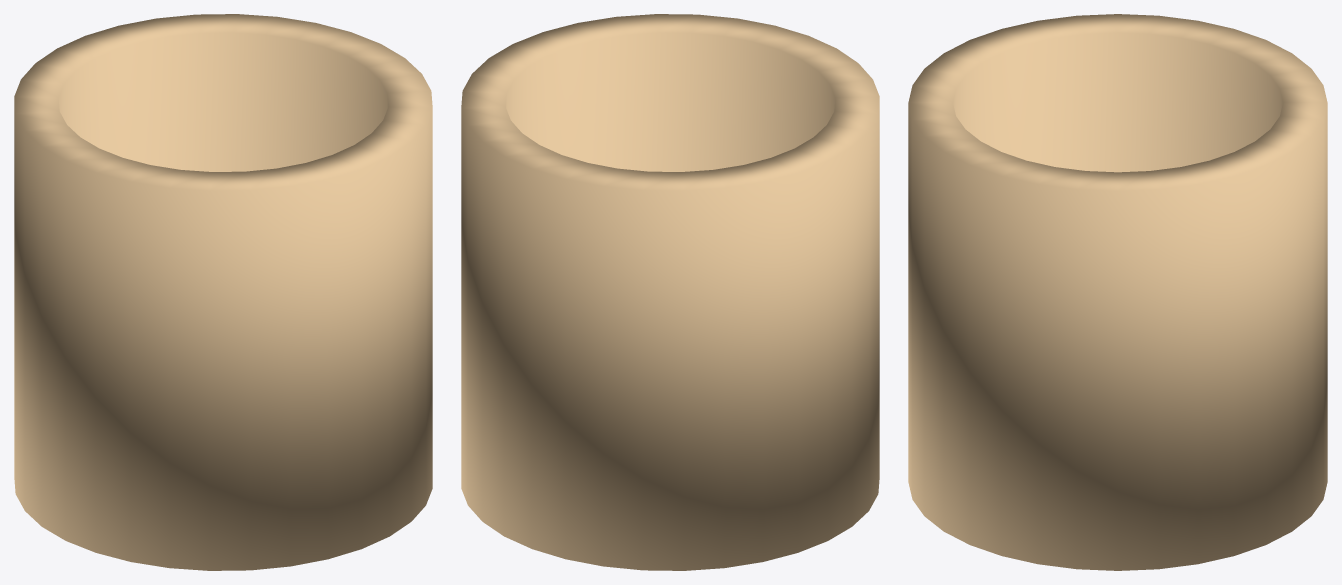
Rendered from PenHolder.fbx.
The picture shows the model from 3 angles, left to right: view 1: azimuth 30°, elevation 25°; view 2: azimuth 150°, elevation 25°; view 3: azimuth 270°, elevation 25°; orthographic projection.
Parts seen in each view (by area): view 1: Holder; view 2: Holder; view 3: Holder.
Part boxes in pixels (left/top/right/bottom): Holder: left=14, top=14, right=432, bottom=570; Holder: left=461, top=14, right=879, bottom=570; Holder: left=908, top=14, right=1327, bottom=570.
Bounding box in the file's own units: 200 × 200 × 200.
